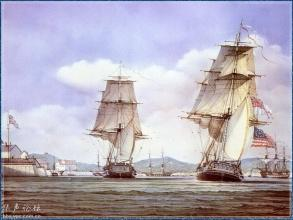fanchuan: (186, 21, 268, 181), (91, 64, 149, 178), (261, 126, 293, 181)
